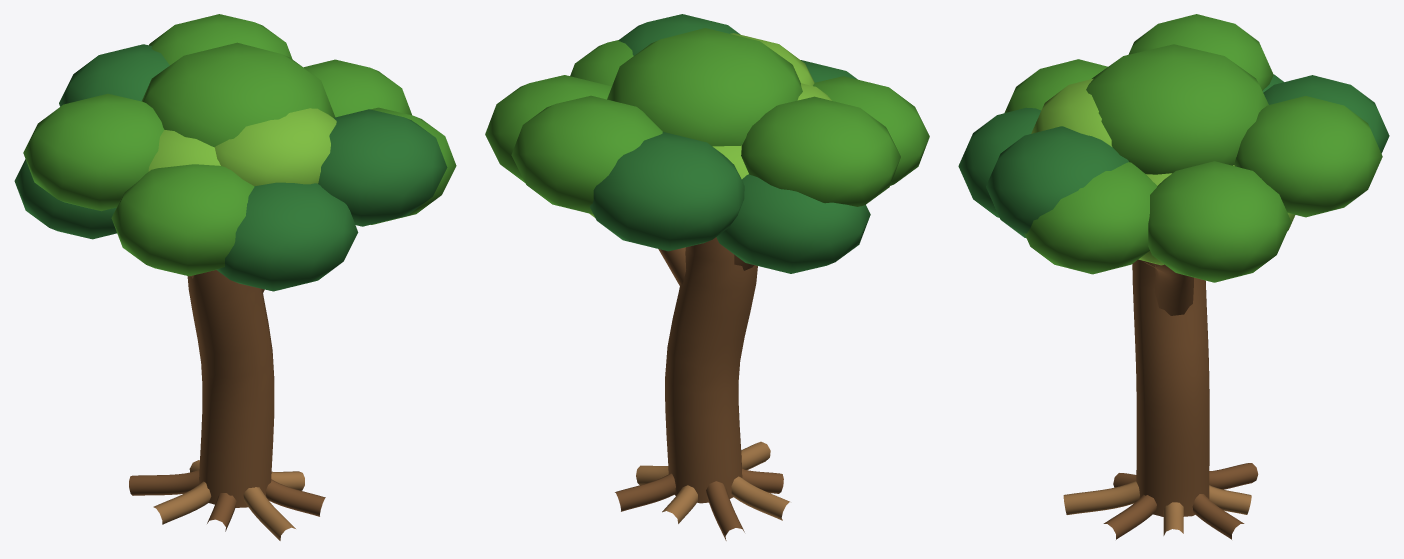
File: tree-coastal.glb
3 renders of one model, left to right at view 1: azimuth 30°, elevation 25°; view 2: azimuth 150°, elevation 25°; view 3: azimuth 270°, elevation 25°, orthographic. The views are drawn at different scales.
Parts seen in each view (by area): view 1: CoastalCanopy, CoastalRoots_SculptedBark_1, CoastalRoots_SculptedBarkLight_0; view 2: CoastalCanopy, CoastalRoots_SculptedBark_1, CoastalRoots_SculptedBarkLight_0; view 3: CoastalCanopy, CoastalRoots_SculptedBark_1, CoastalRoots_SculptedBarkLight_0.
Part boxes in pixels (box(x1,y1,x2,y2)): CoastalCanopy: box(14, 14, 456, 507); CoastalRoots_SculptedBark_1: box(129, 470, 325, 531); CoastalRoots_SculptedBarkLight_0: box(153, 460, 304, 540); CoastalCanopy: box(485, 14, 929, 503); CoastalRoots_SculptedBark_1: box(615, 468, 783, 540); CoastalRoots_SculptedBarkLight_0: box(636, 441, 789, 523); CoastalCanopy: box(958, 14, 1389, 516); CoastalRoots_SculptedBark_1: box(1103, 463, 1258, 539); CoastalRoots_SculptedBarkLight_0: box(1063, 481, 1251, 535).
Bounding box in the file's own units: 2.13 × 2.41 × 2.06.
